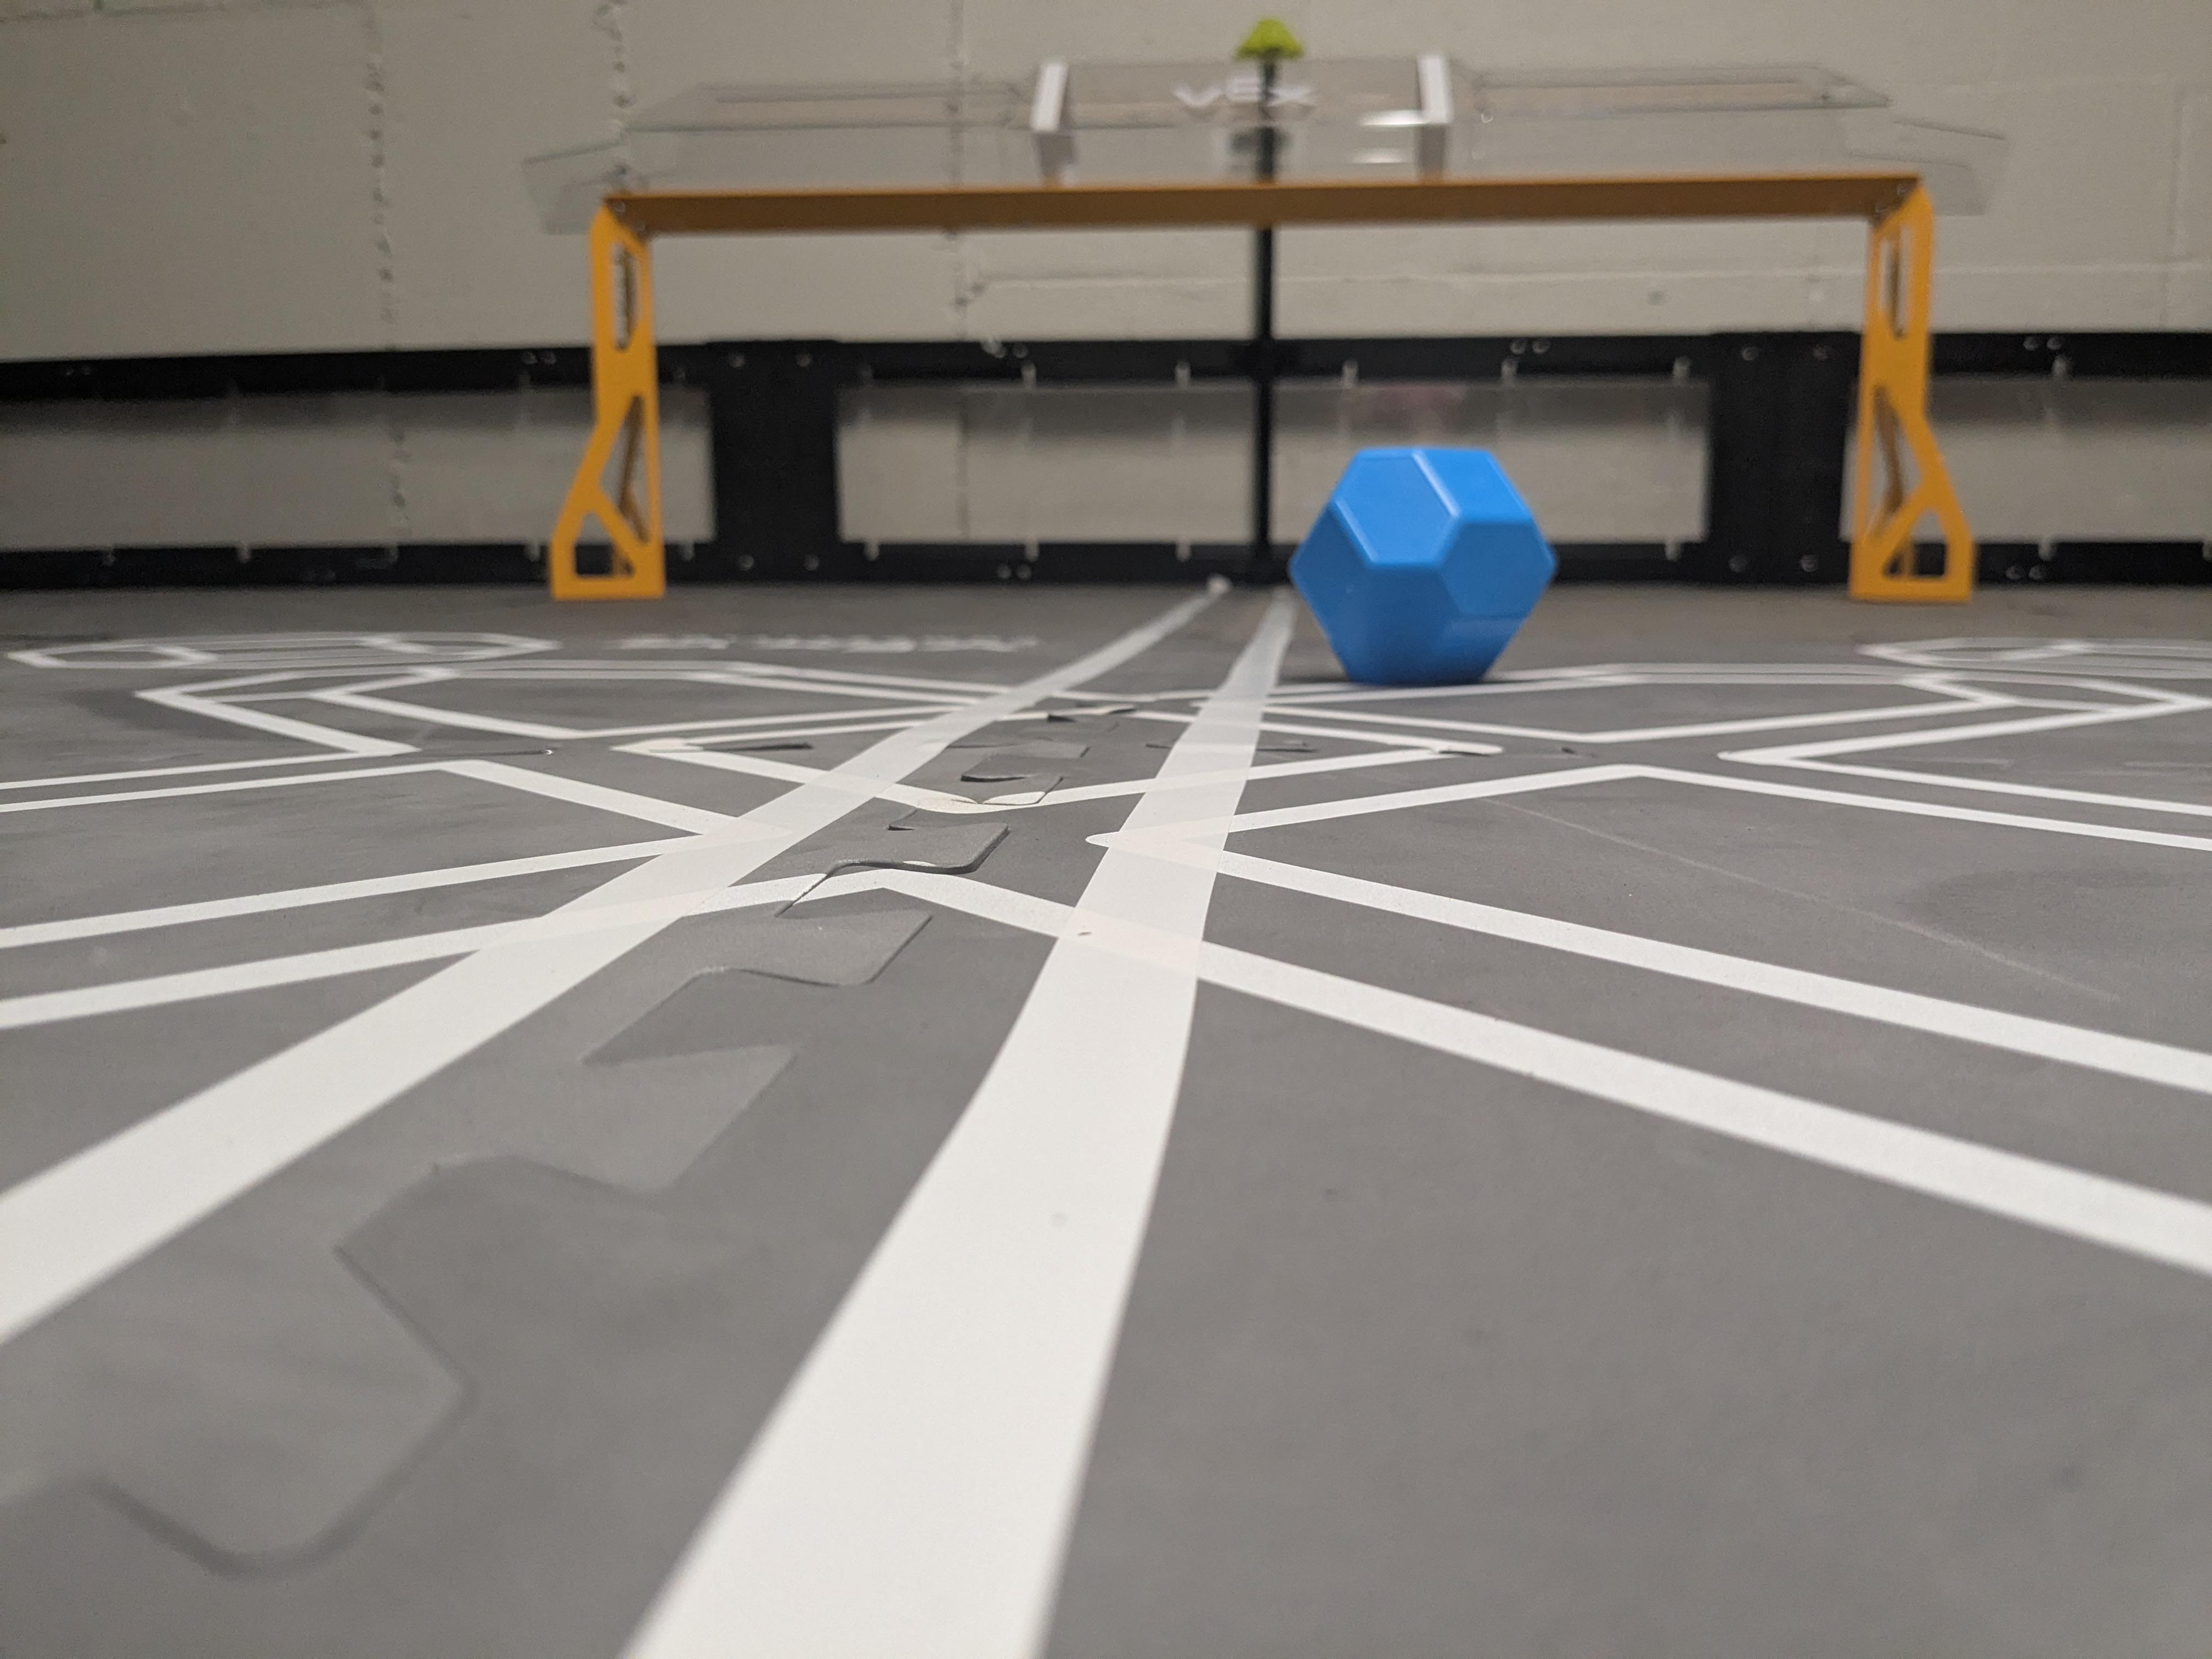Vex-Pieces-BLUE: (1292, 448, 1552, 681)
